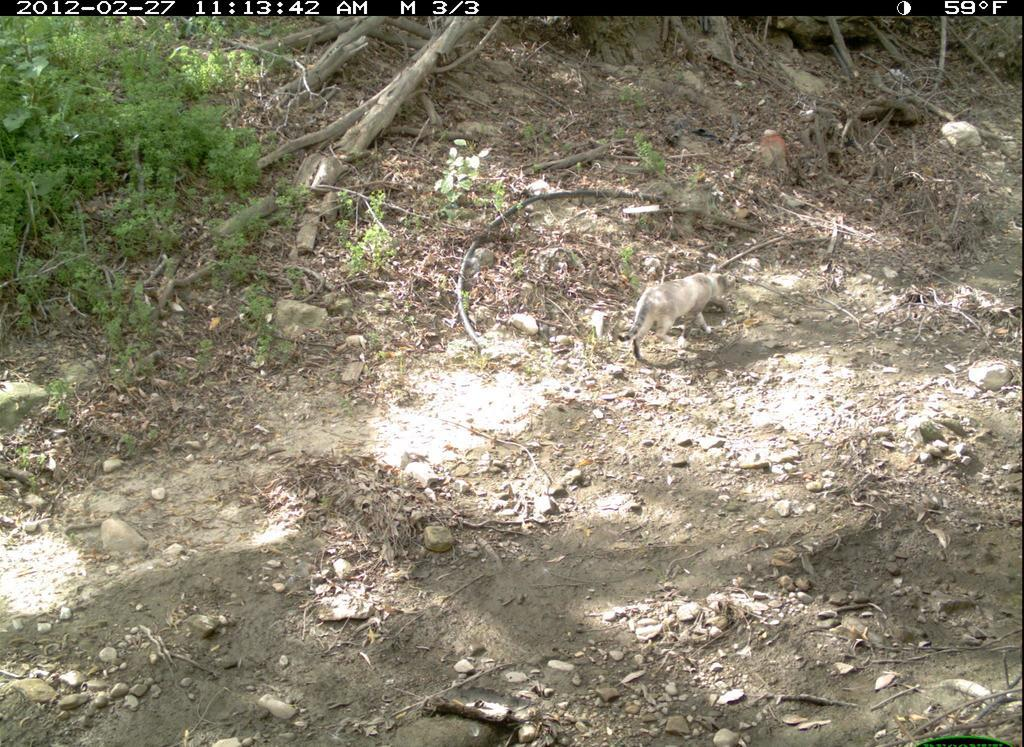cat: (619, 259, 747, 368)
